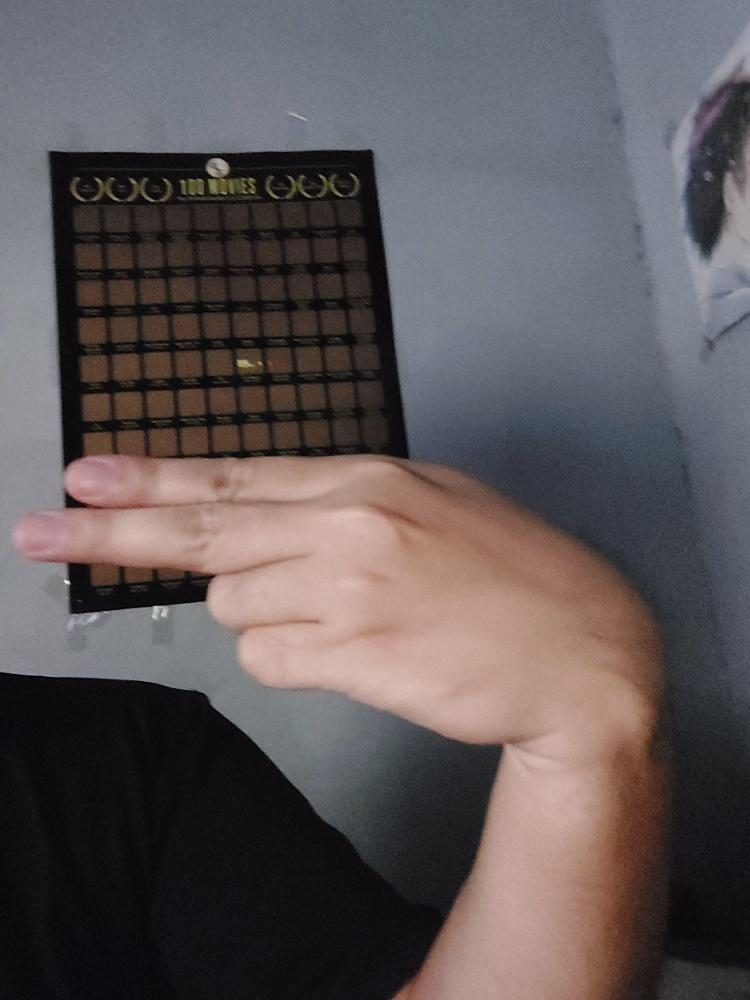h: (10, 441, 682, 751)
